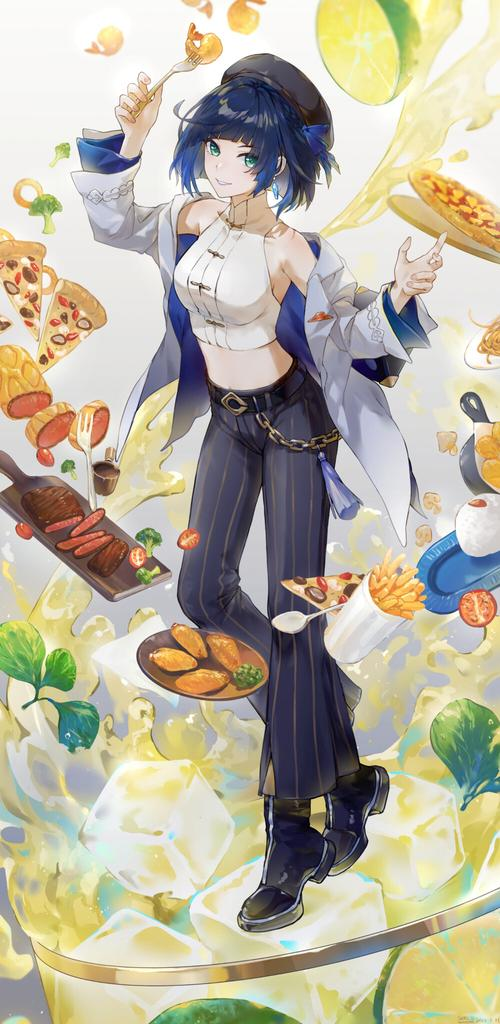夜兰: (75, 50, 450, 934)
